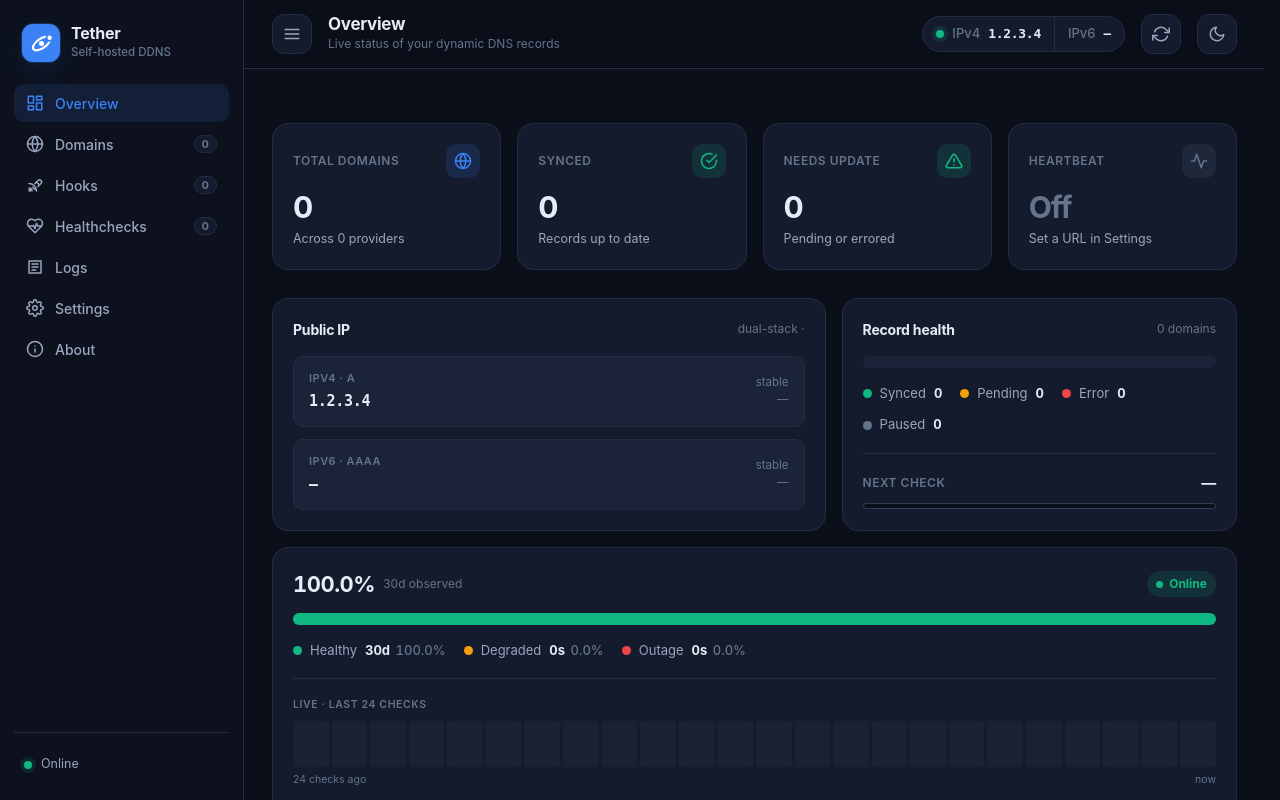
it: App form validation › lets the server judge an empty hostname
What coordinates should you click on to do the following:
click the button "Domains 0"
I would click on:
 (122, 144)
Its box is [14,125,229,163].
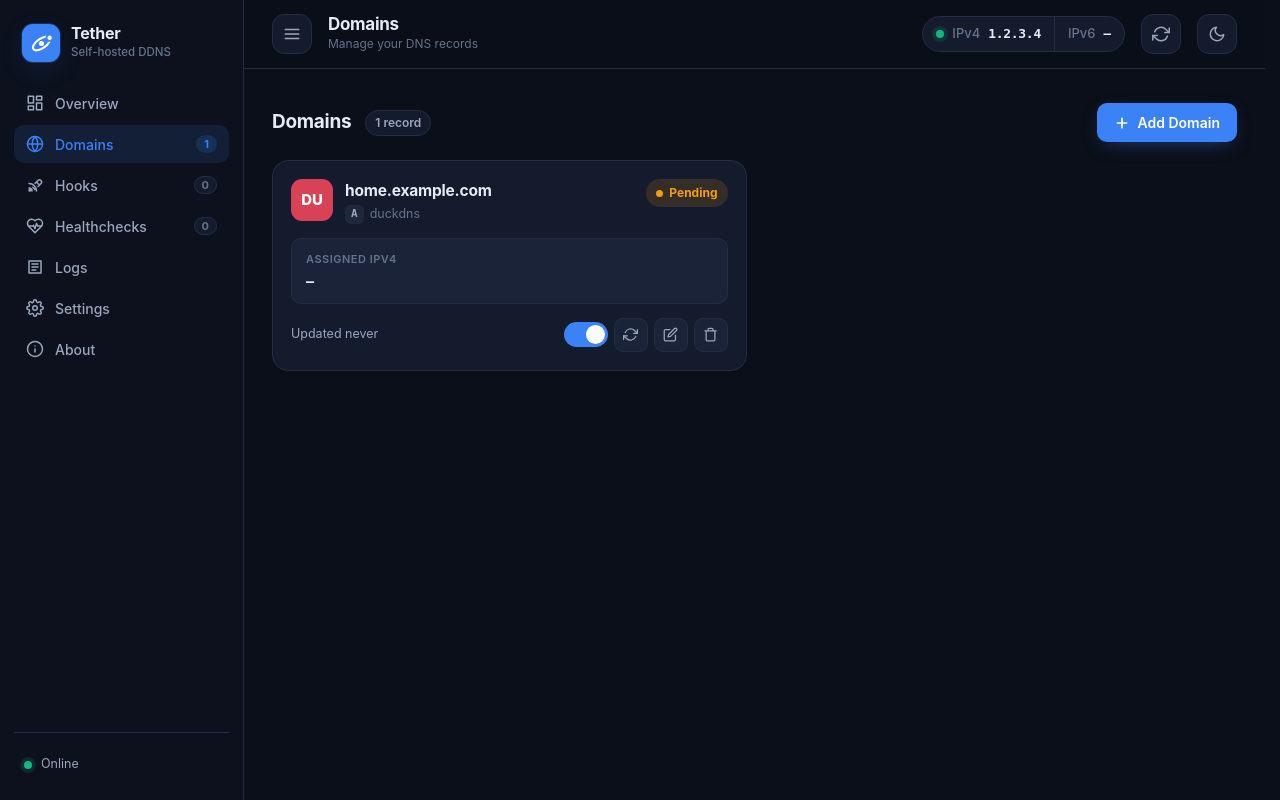
expect the checkbox is shown: met, box [564,322,608,347]
What coordinates should you click on to do the following:
click the button "Add Domain"
I would click on:
 (1167, 122)
Its box is [1096,103,1237,142].
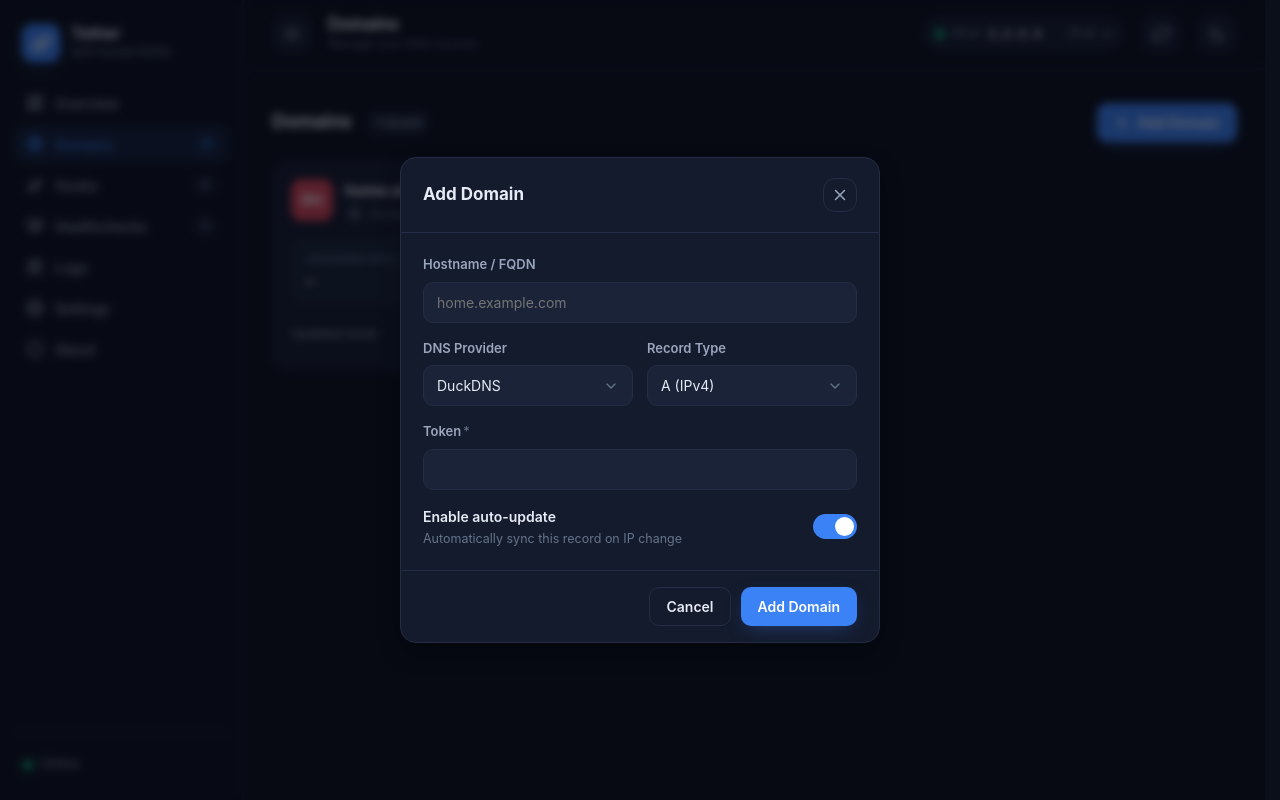
What coordinates should you click on to do the following:
click the button "Add Domain"
I would click on:
 (799, 607)
Its box is [740,587,857,626].
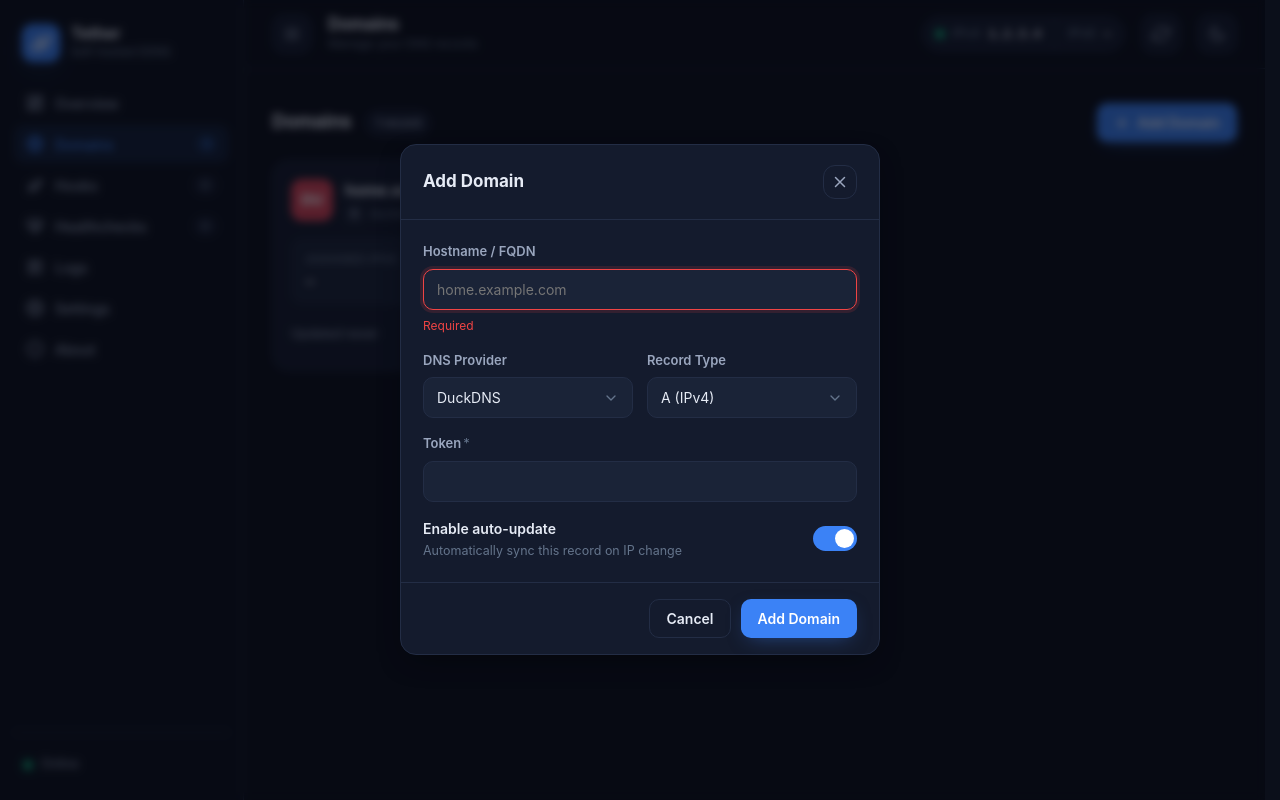
expect the text "Required" is shown: met, box [423,318,474,333]
